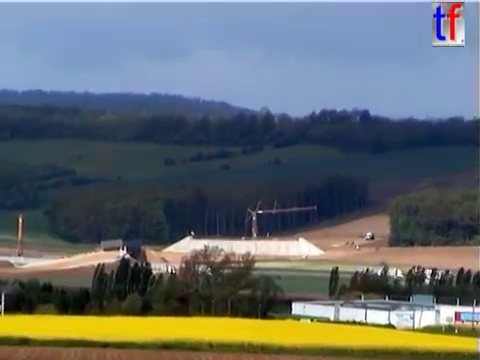crane: (240, 200, 322, 241), (11, 211, 31, 264)
